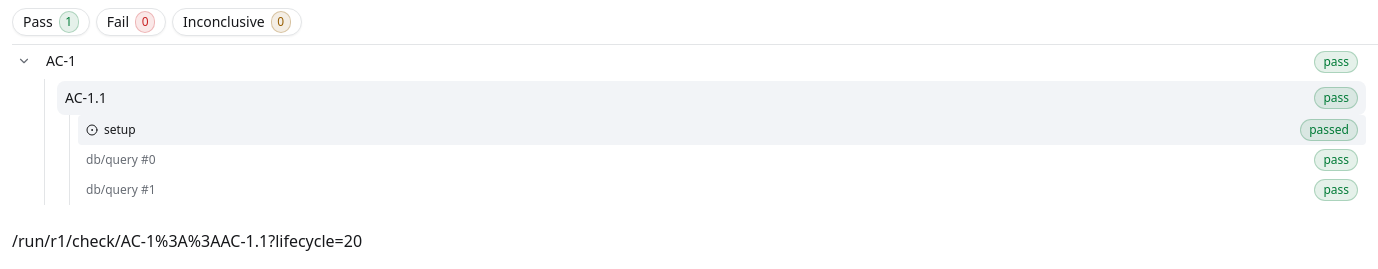
Test: #558 review regressions › clears lifecycle selection when a step row is clicked
Step 1. Click the link "db/query #0 pass" → (121, 160), box [78,145,1366,175]
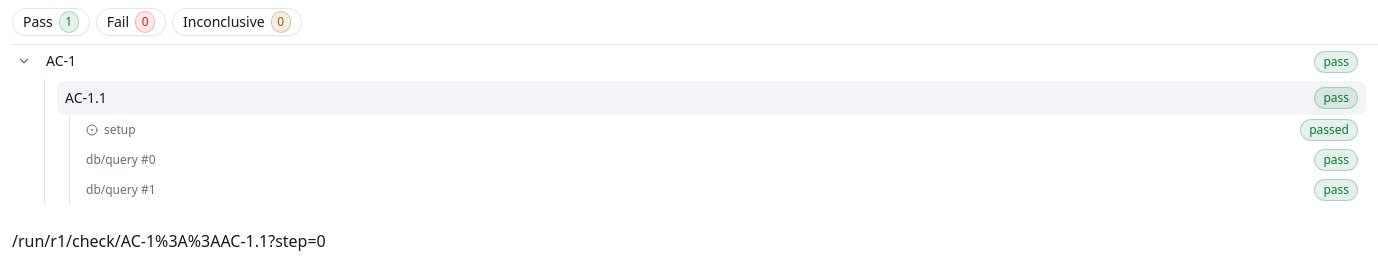
Expected: the text with test id "location" reads "/run/r1/check/AC-1%3A%3AAC-1.1?step=0", [12,230,326,252]
